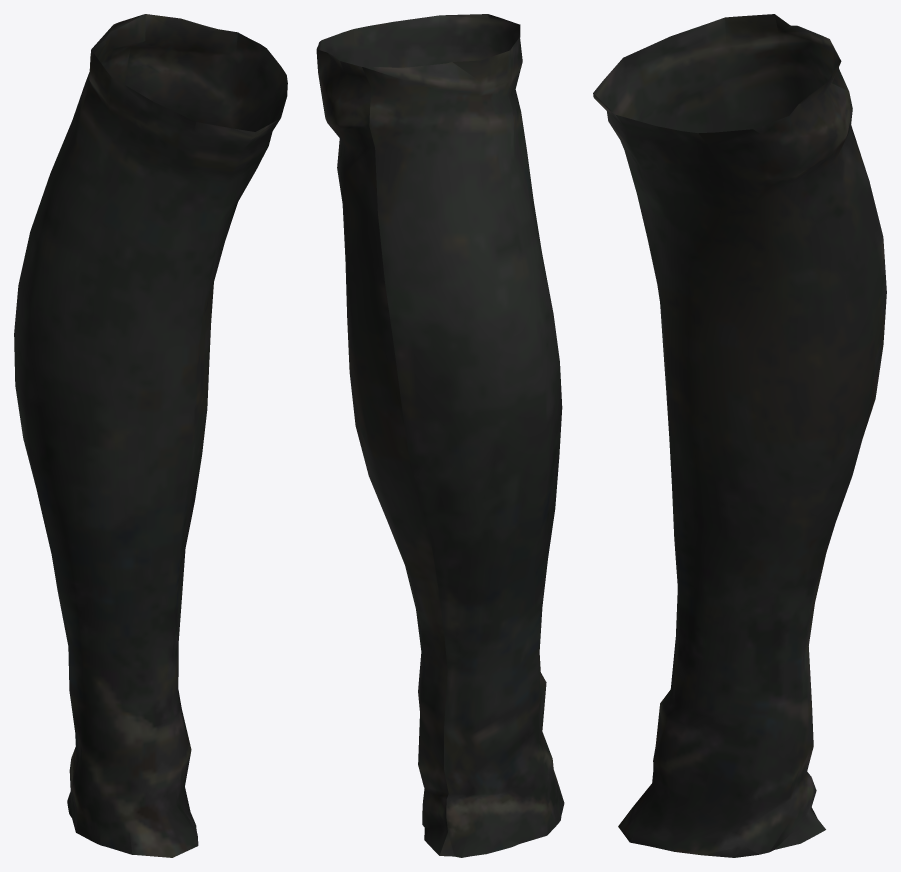
File: rightthight.obj
The picture shows the model from 3 angles, left to right: view 1: azimuth 30°, elevation 25°; view 2: azimuth 150°, elevation 25°; view 3: azimuth 270°, elevation 25°; orthographic projection. The views are drawn at different scales.
Parts seen in each view (by area): view 1: rightthight:Object01 rightthight:polySurface3 rightthight:polySu; view 2: rightthight:Object01 rightthight:polySurface3 rightthight:polySu; view 3: rightthight:Object01 rightthight:polySurface3 rightthight:polySu.
Boxes of the visible parts, x1,y1,x2,y2 form: rightthight:Object01 rightthight:polySurface3 rightthight:polySu: [14, 14, 287, 857]; rightthight:Object01 rightthight:polySurface3 rightthight:polySu: [316, 14, 564, 857]; rightthight:Object01 rightthight:polySurface3 rightthight:polySu: [593, 14, 886, 857].
Size of the model in its own units: 2.9 by 9.13 by 3.
1 material, 1 textured.
